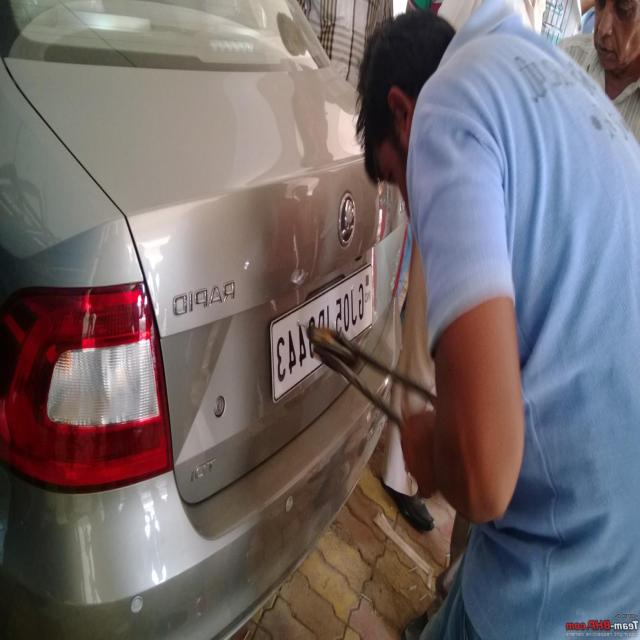number-plate: (262, 276, 372, 402)
